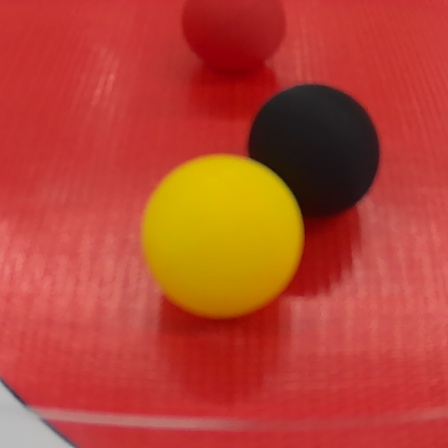black: (247, 85, 380, 216)
red: (183, 1, 287, 69)
yellow: (142, 152, 304, 320)
